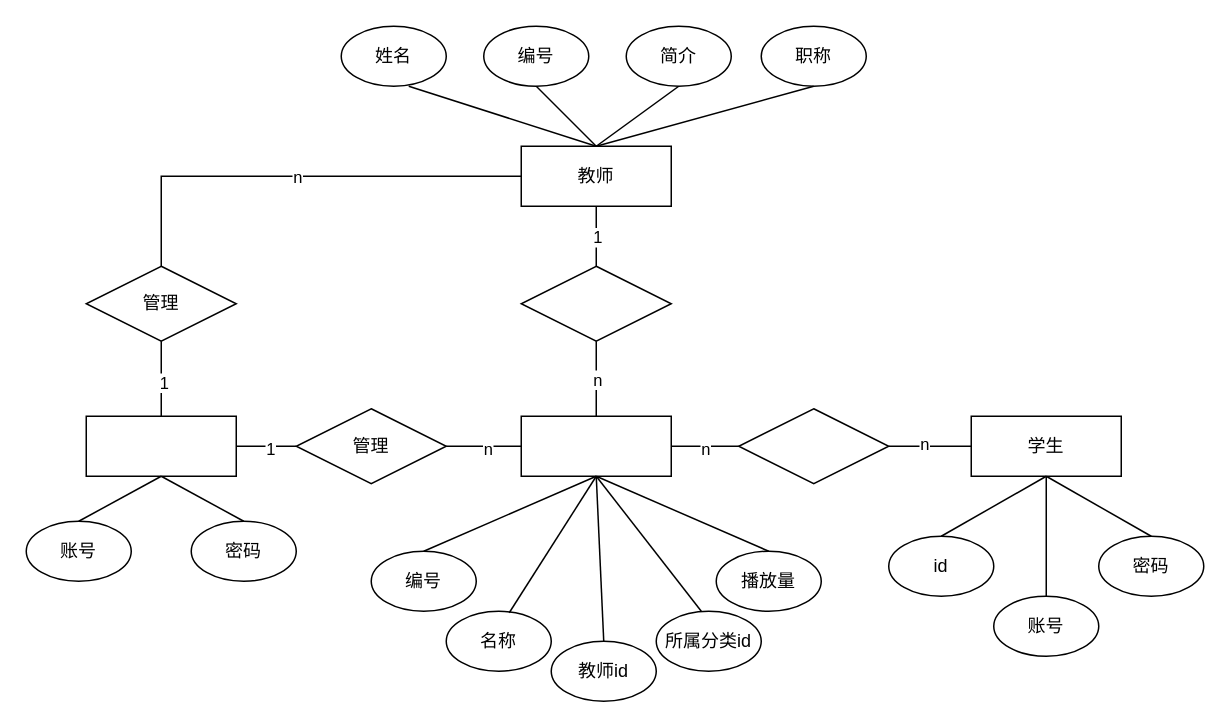
The diagram is 1230 pixels wide and 728 high, and some of its shapes have lost their labels. Here are the shapes that lost their labels. From the top down, the centre of each, then its label:
At (x=595, y=303): "教授".
At (x=160, y=445): "管理员".
At (x=595, y=445): "课程".
At (x=813, y=445): "学习".
